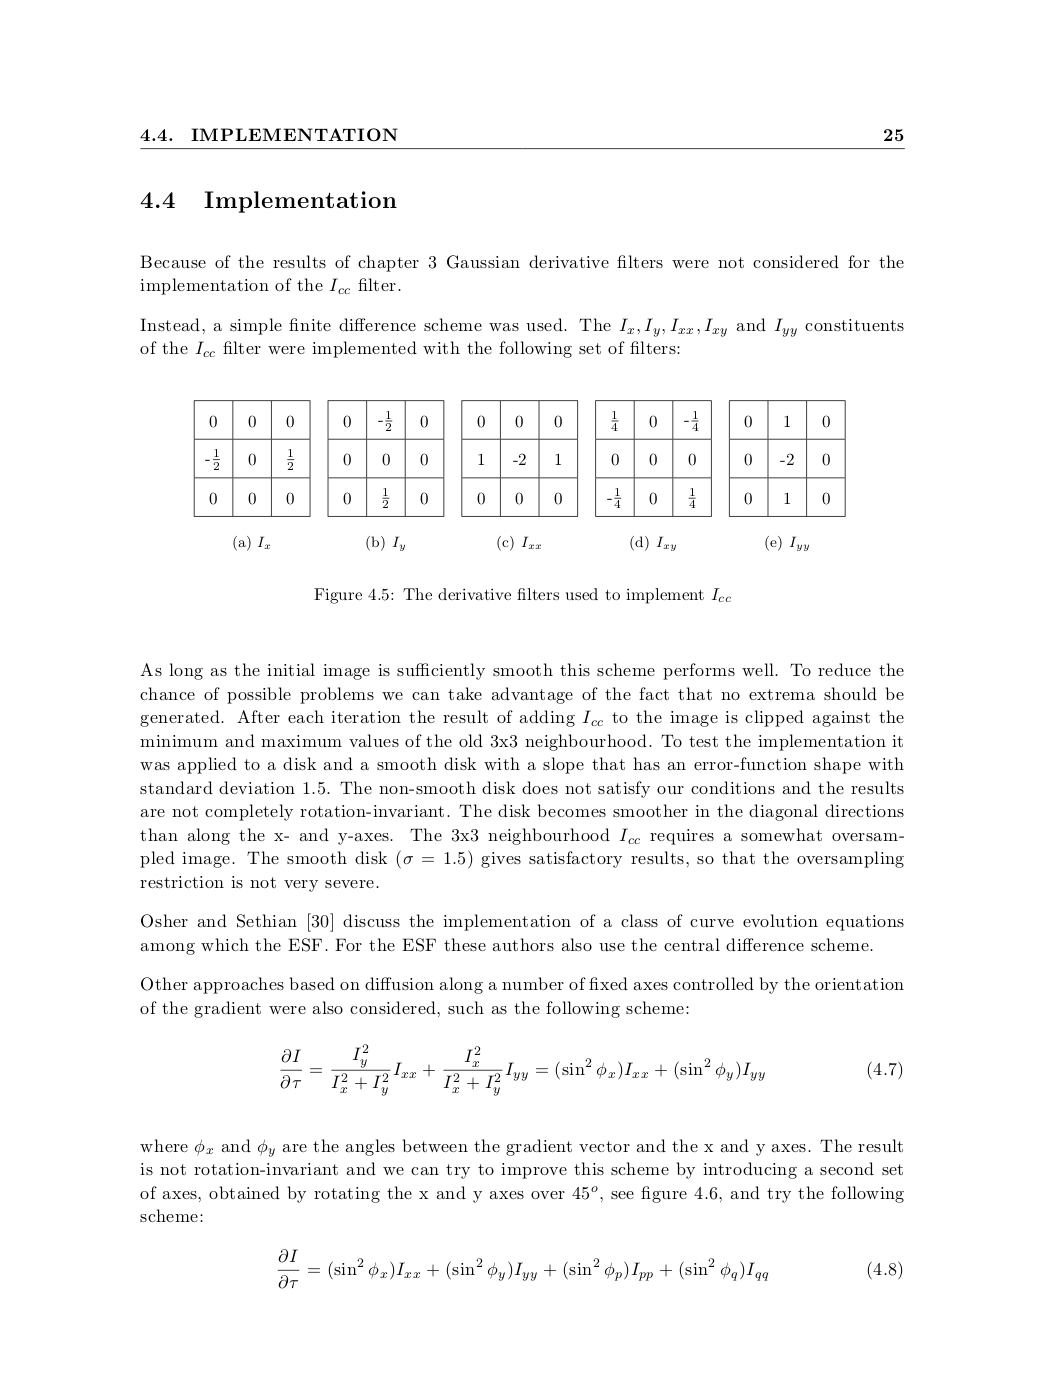figure: (193, 399, 845, 517)
formula: (280, 1042, 902, 1096), (278, 1248, 902, 1289)
